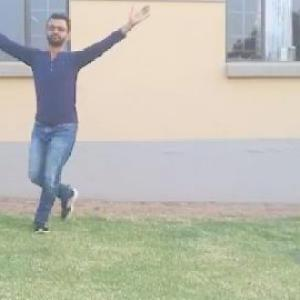takeoff: (0, 16, 137, 198)
